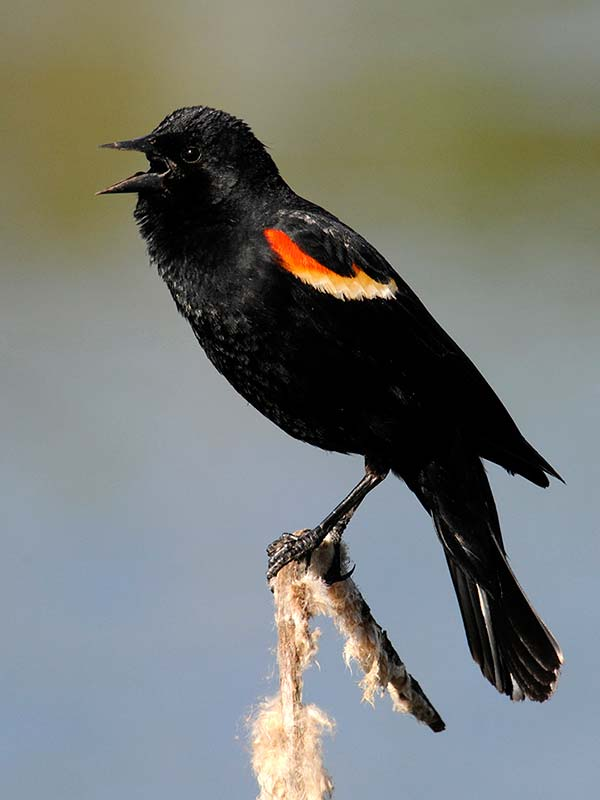bird: (129, 106, 539, 578)
